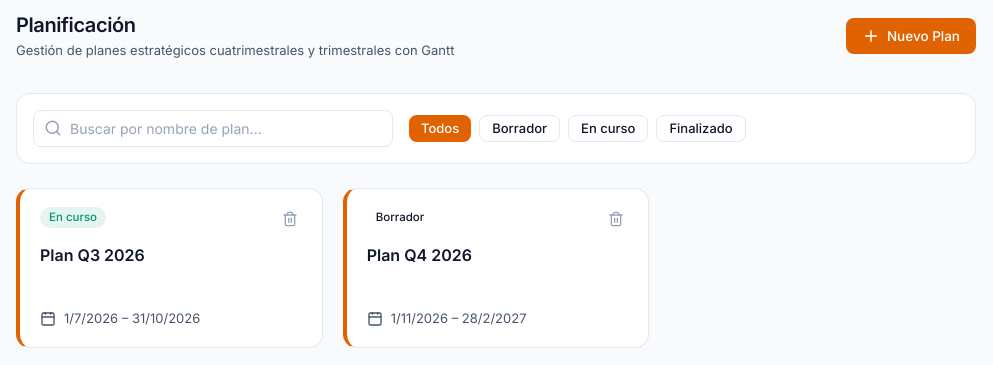
Componente Planificacion › debe filtrar planes por termino de busqueda
Check: the heading "Plan Q3 2026" is shown, box [40, 244, 145, 264]
Type "Q3" into the field with placeholder "Buscar por nombre de plan...".
click(213, 128); type("Q3")  # box [33, 110, 393, 146]
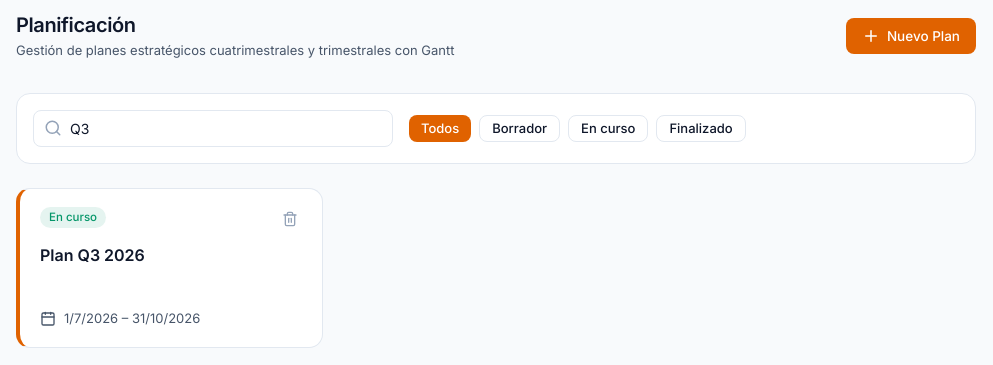
Check: the heading "Plan Q3 2026" is shown, box [40, 244, 145, 264]
Check: the link "Plan Q4 2026" is gone
